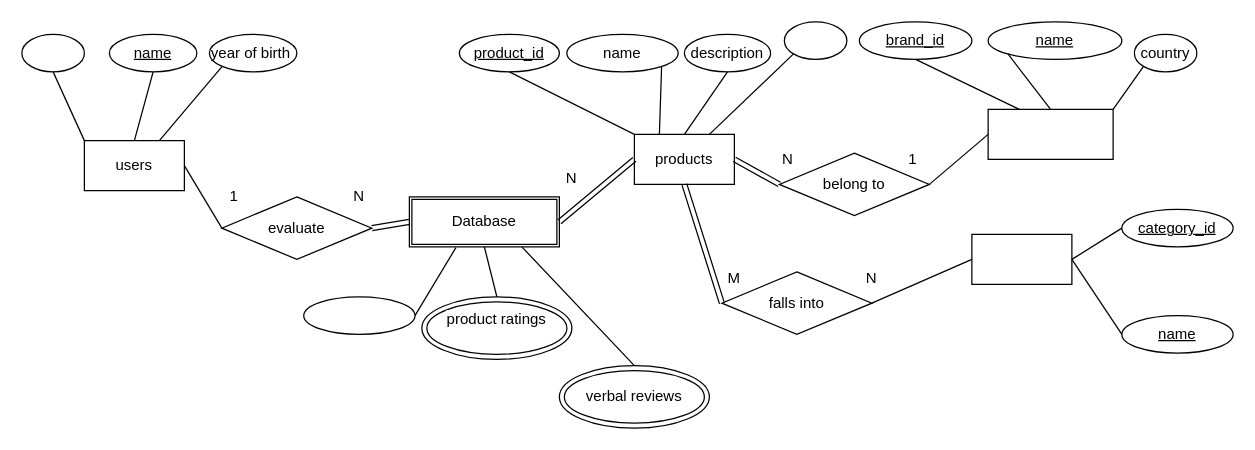
Image size: 1255x450. Some labels were removed from this diagram. Here are the shapes that lost their labels. From the top down, the centre of each, then its label:
the point at 52,52: user_id
the point at 815,40: price
the point at 1050,133: brands
the point at 1021,258: categories
the point at 358,315: date
